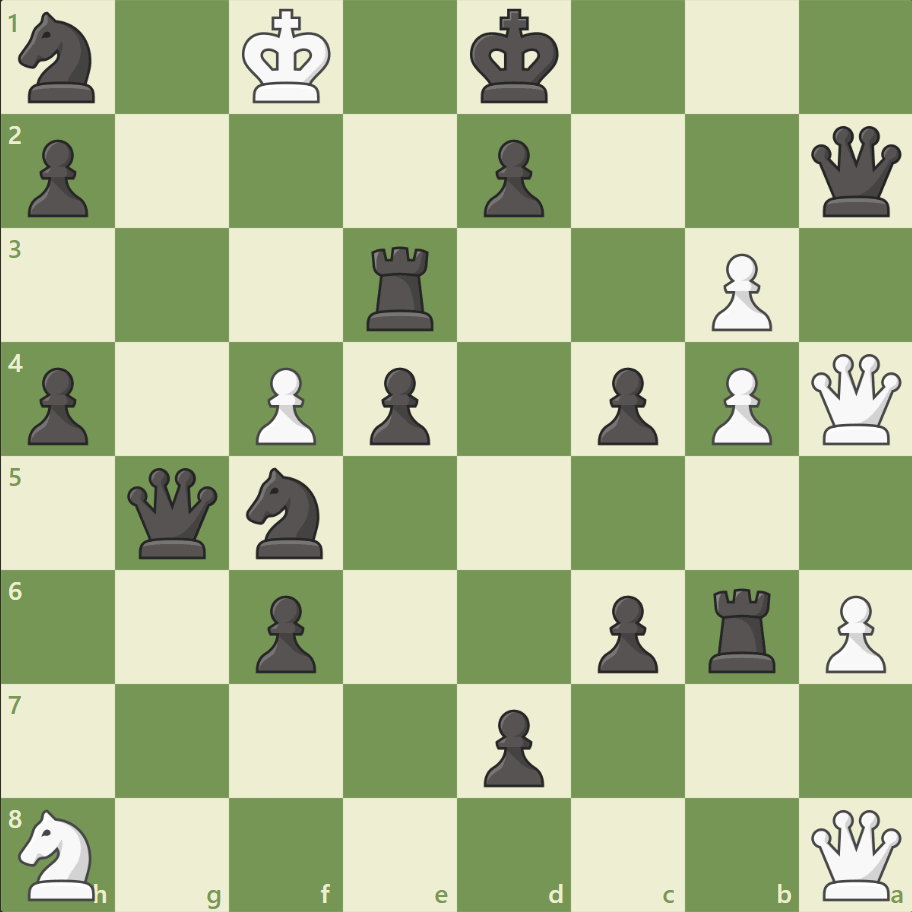K: (238, 4, 338, 112)
N: (11, 802, 108, 904)
P: (701, 359, 776, 450), (247, 359, 322, 450), (701, 246, 776, 337), (815, 586, 889, 677)
Q: (805, 349, 904, 449), (805, 804, 904, 903)
k: (465, 4, 565, 112)
n: (238, 461, 335, 564), (11, 7, 108, 110)
p: (474, 700, 549, 791), (247, 586, 322, 677), (20, 359, 95, 450), (474, 132, 549, 223), (20, 132, 95, 223), (588, 586, 662, 677), (588, 359, 662, 450), (361, 359, 435, 450)
q: (805, 122, 904, 222), (124, 463, 223, 562)
r: (700, 579, 783, 676), (360, 239, 442, 336)
